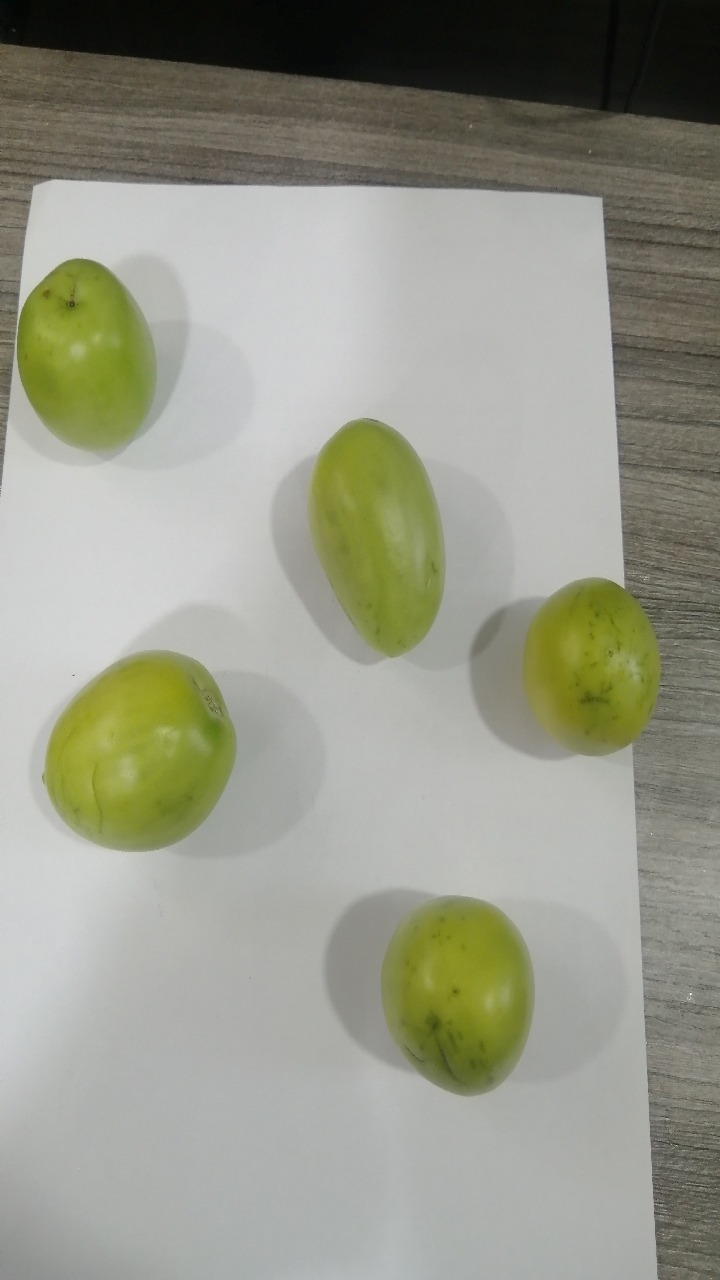tomateVerde: (278, 402, 483, 691), (34, 637, 269, 871), (361, 875, 546, 1129), (504, 554, 686, 774), (6, 243, 175, 475)
